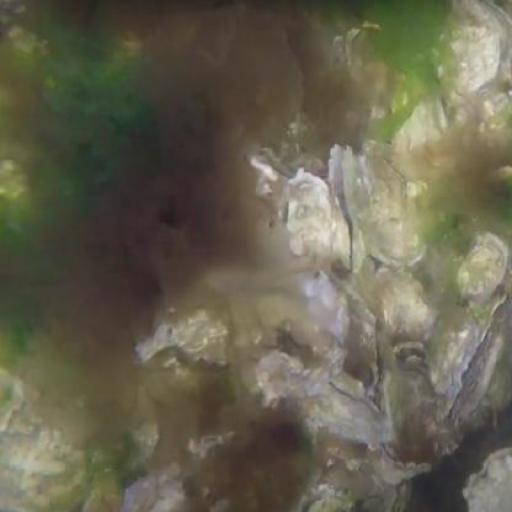Oyster-Closed: (364, 149, 427, 271), (132, 301, 232, 366), (296, 390, 390, 449), (435, 21, 503, 98), (397, 96, 451, 192), (375, 271, 433, 345), (455, 235, 504, 301), (372, 453, 429, 488), (1, 377, 27, 436)
Oyster-Open: (433, 295, 512, 428), (277, 169, 347, 274), (326, 145, 371, 275), (465, 447, 512, 512)
